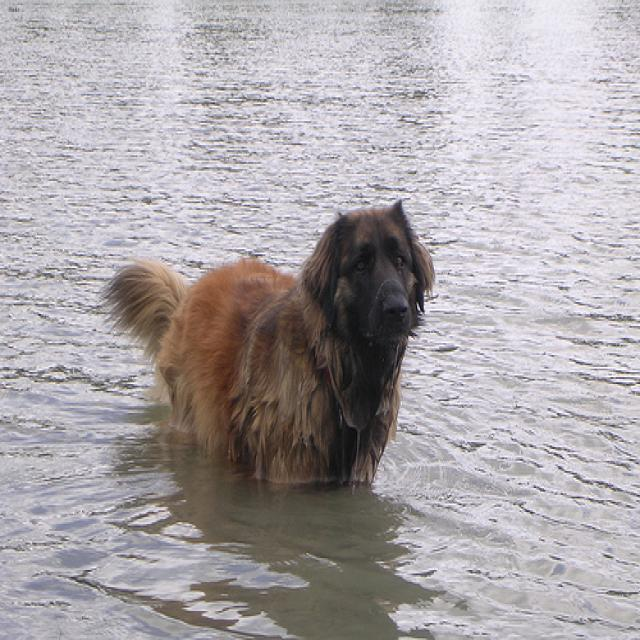dog-leonberger: (97, 195, 439, 498)
